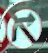Don't turn right: (1, 2, 43, 52)
